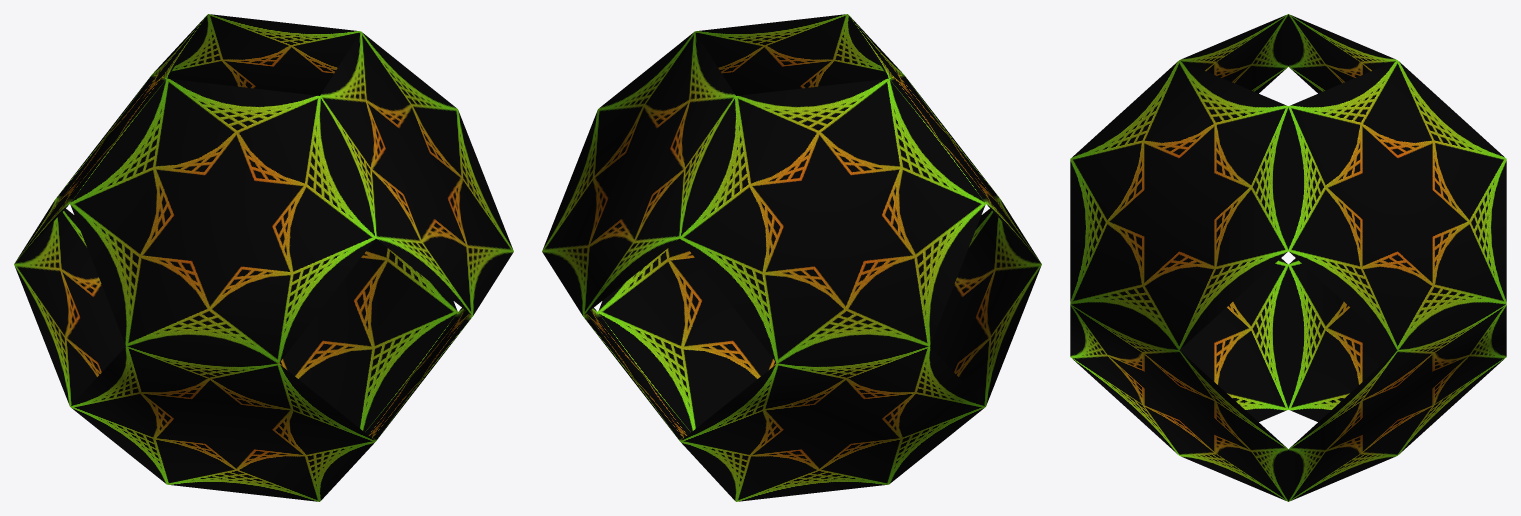
File: TruncatedOctahedron45.gltf
The picture shows the model from 3 angles, left to right: view 1: azimuth 30°, elevation 25°; view 2: azimuth 150°, elevation 25°; view 3: azimuth 270°, elevation 25°; orthographic projection. The views are drawn at different scales.
Parts seen in each view (by area): view 1: 0TruncatedOctahedron; view 2: 0TruncatedOctahedron; view 3: 0TruncatedOctahedron.
Boxes of the visible parts, left/top/right/bottom form: 0TruncatedOctahedron: left=14, top=14, right=513, bottom=501; 0TruncatedOctahedron: left=542, top=14, right=1041, bottom=501; 0TruncatedOctahedron: left=1070, top=14, right=1506, bottom=501.
Bounding box in the file's own units: 2.83 × 2.83 × 2.83.
1 material, 1 textured.
